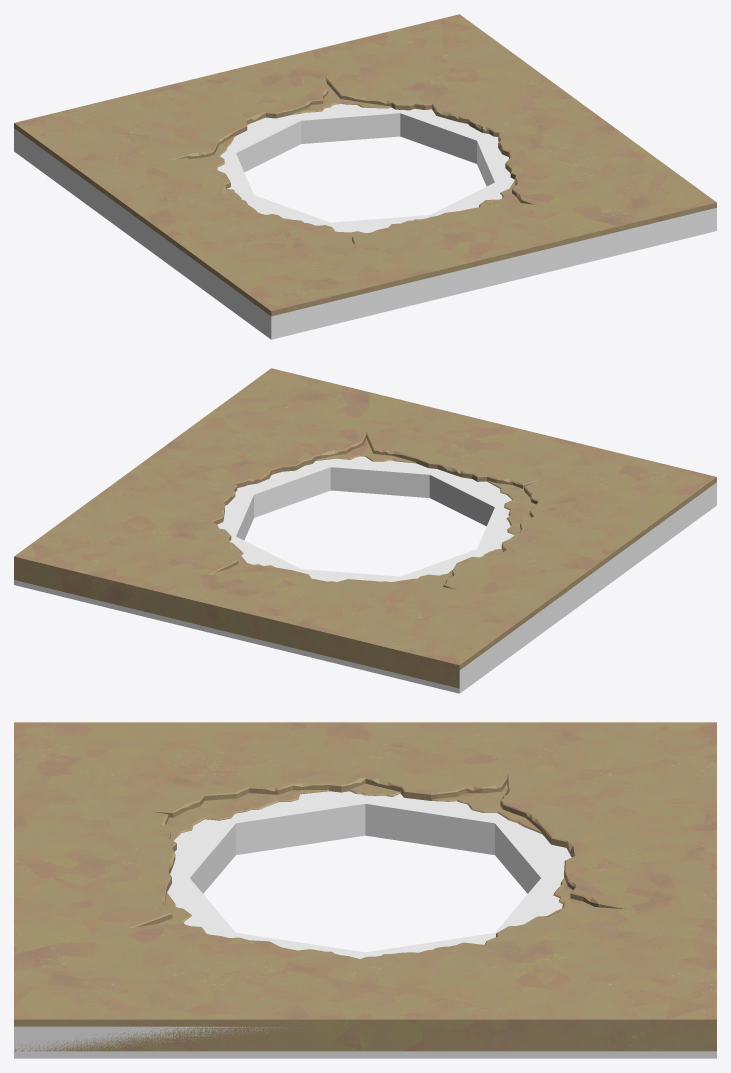
Rendered from Floor_Hole.fbx.
3 renders of one model, top to bottom at view 1: azimuth 30°, elevation 25°; view 2: azimuth 150°, elevation 25°; view 3: azimuth 270°, elevation 25°, orthographic. The views are drawn at different scales.
Visible parts, largest first — view 1: Floor_Hole, Floor_Hole_COL; view 2: Floor_Hole, Floor_Hole_COL; view 3: Floor_Hole, Floor_Hole_COL.
Part boxes in pixels (left/top/right/bottom): Floor_Hole: left=14, top=14, right=716, bottom=316; Floor_Hole_COL: left=14, top=104, right=716, bottom=339; Floor_Hole: left=14, top=368, right=716, bottom=688; Floor_Hole_COL: left=14, top=456, right=716, bottom=693; Floor_Hole: left=14, top=722, right=716, bottom=1051; Floor_Hole_COL: left=14, top=791, right=716, bottom=1058.
Bounding box in the file's own units: 400 × 24.43 × 400.
